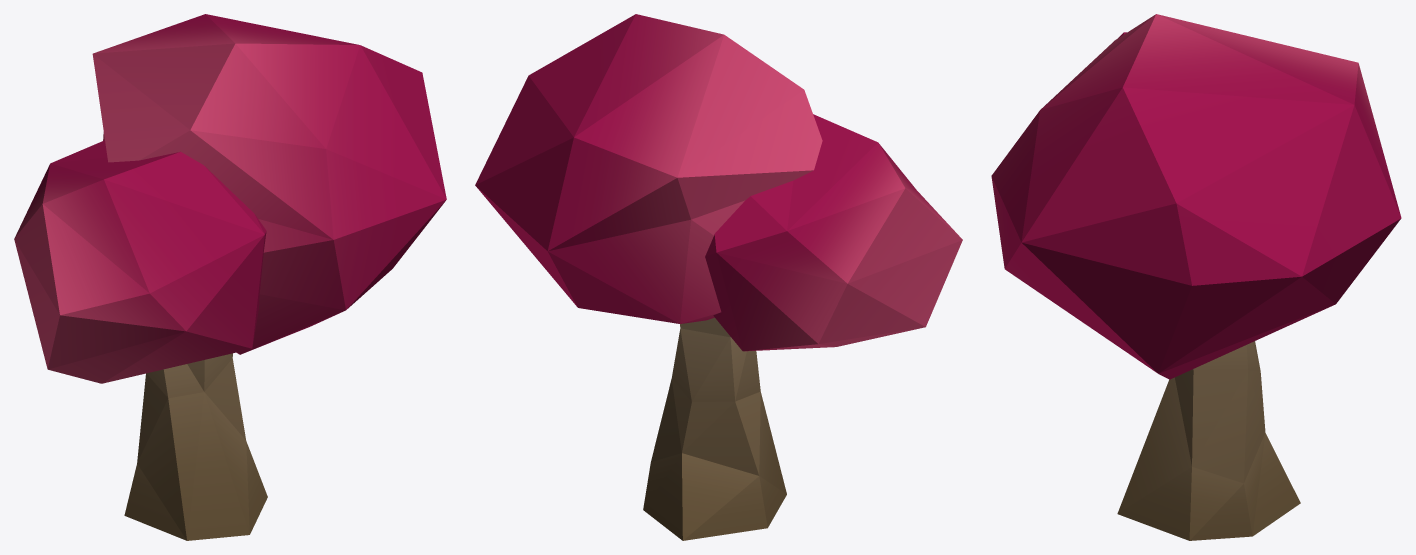
File: Tree_RedPlum.fbx
3 renders of one model, left to right at view 1: azimuth 30°, elevation 25°; view 2: azimuth 150°, elevation 25°; view 3: azimuth 270°, elevation 25°, orthographic. The views are drawn at different scales.
Visible parts, largest first — view 1: Tree_RedPlum.001; view 2: Tree_RedPlum.001; view 3: Tree_RedPlum.001.
Boxes of the visible parts, x1,y1,x2,y2 form: Tree_RedPlum.001: (14, 14, 446, 540); Tree_RedPlum.001: (475, 14, 962, 540); Tree_RedPlum.001: (991, 14, 1401, 540).
Bounding box in the file's own units: 4.48 × 4.8 × 3.55.
1 material, 1 textured.
